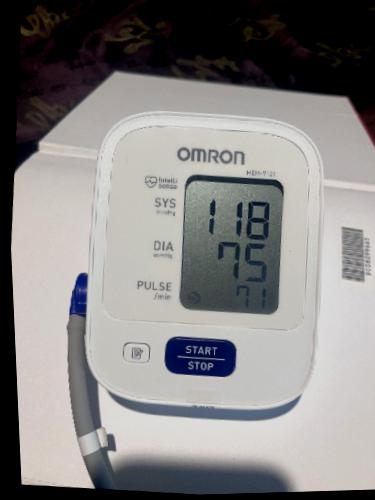bpm: (178, 173, 287, 317)
